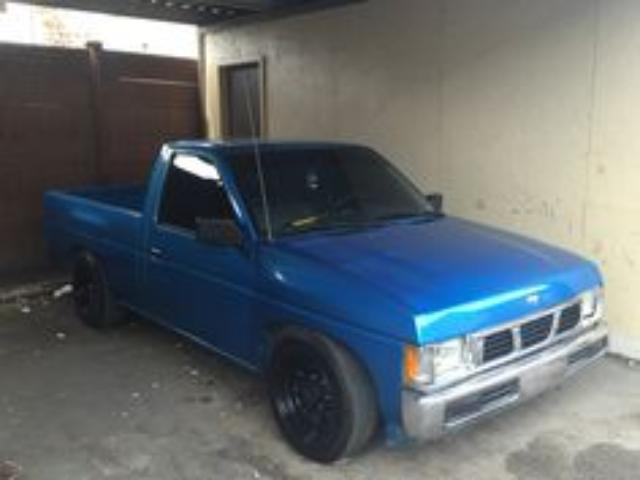pickup-truck: (41, 137, 610, 465)
